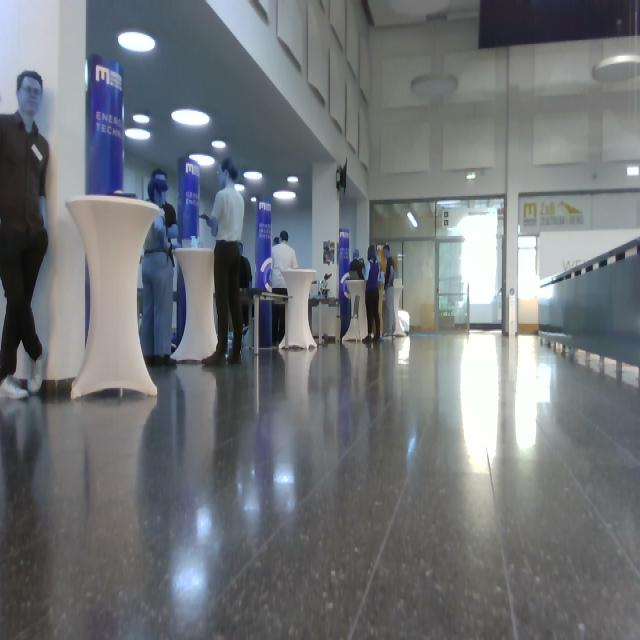door: (403, 238, 436, 332)
light bulb: (592, 53, 640, 82), (411, 73, 459, 100), (118, 30, 156, 53), (172, 109, 210, 126), (189, 153, 215, 168), (125, 128, 151, 141), (273, 190, 297, 200), (244, 170, 263, 180), (133, 113, 150, 124), (407, 212, 418, 228), (212, 140, 226, 149), (234, 184, 245, 192), (287, 176, 299, 182)
person: (1, 70, 51, 400), (199, 159, 245, 367), (140, 169, 178, 368), (271, 231, 299, 347), (362, 245, 382, 342)
staircase: (538, 236, 640, 382)
table: (64, 193, 167, 404)
tiled floor: (1, 329, 639, 638)
